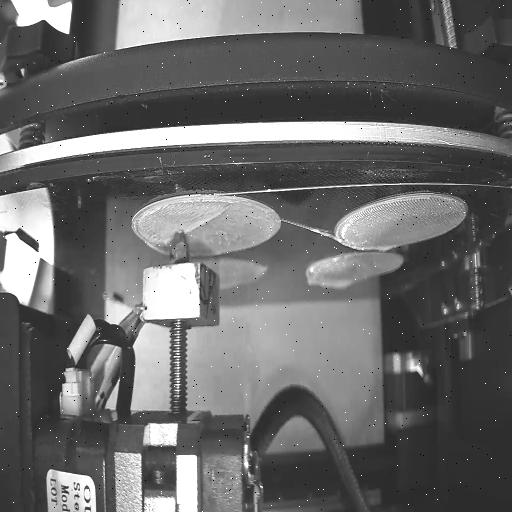over_extrusion: (187, 207, 227, 233), (304, 268, 350, 290), (378, 244, 394, 254), (164, 238, 170, 248)
